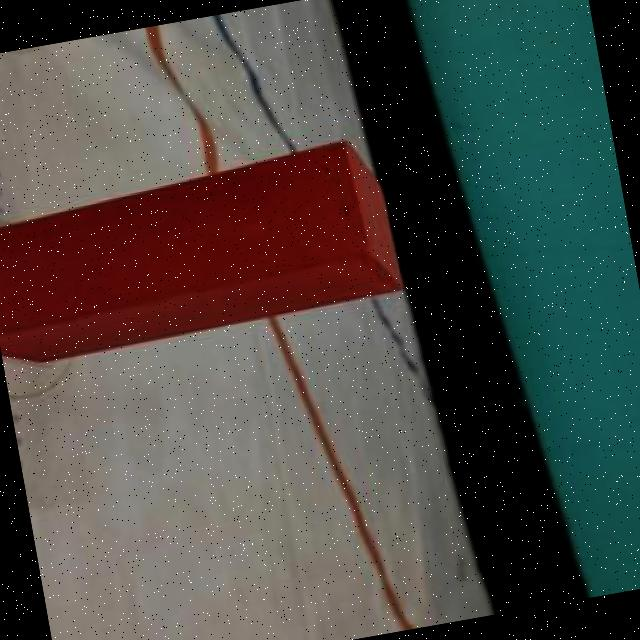redbox: (0, 133, 409, 374)
